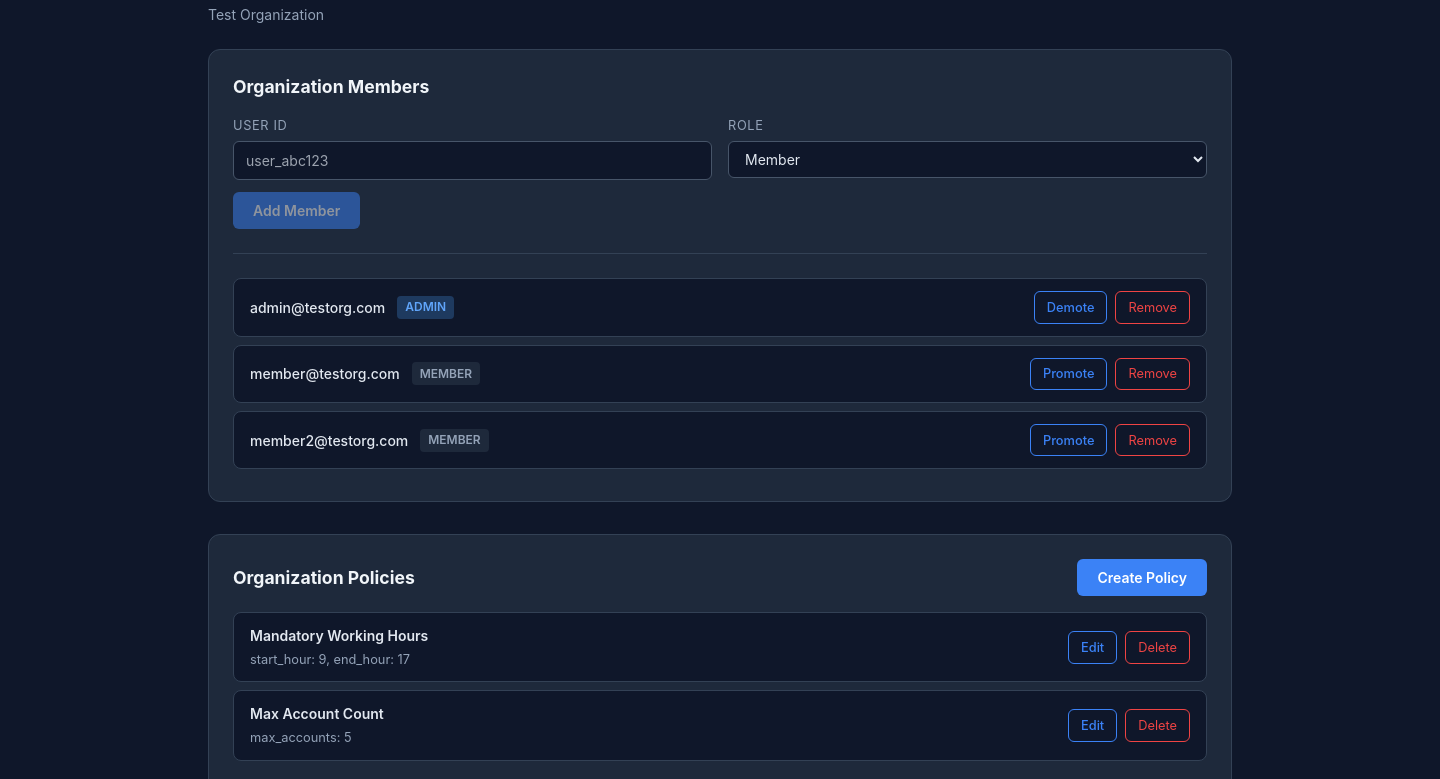
Test: AC2: Admin policy management › admin can open create policy form
The width and height of the screenshot is (1440, 779).
Click the button with test id "create-policy-btn". click: click(1142, 578)
box: [1078,559,1207,596]
(page scrolled)
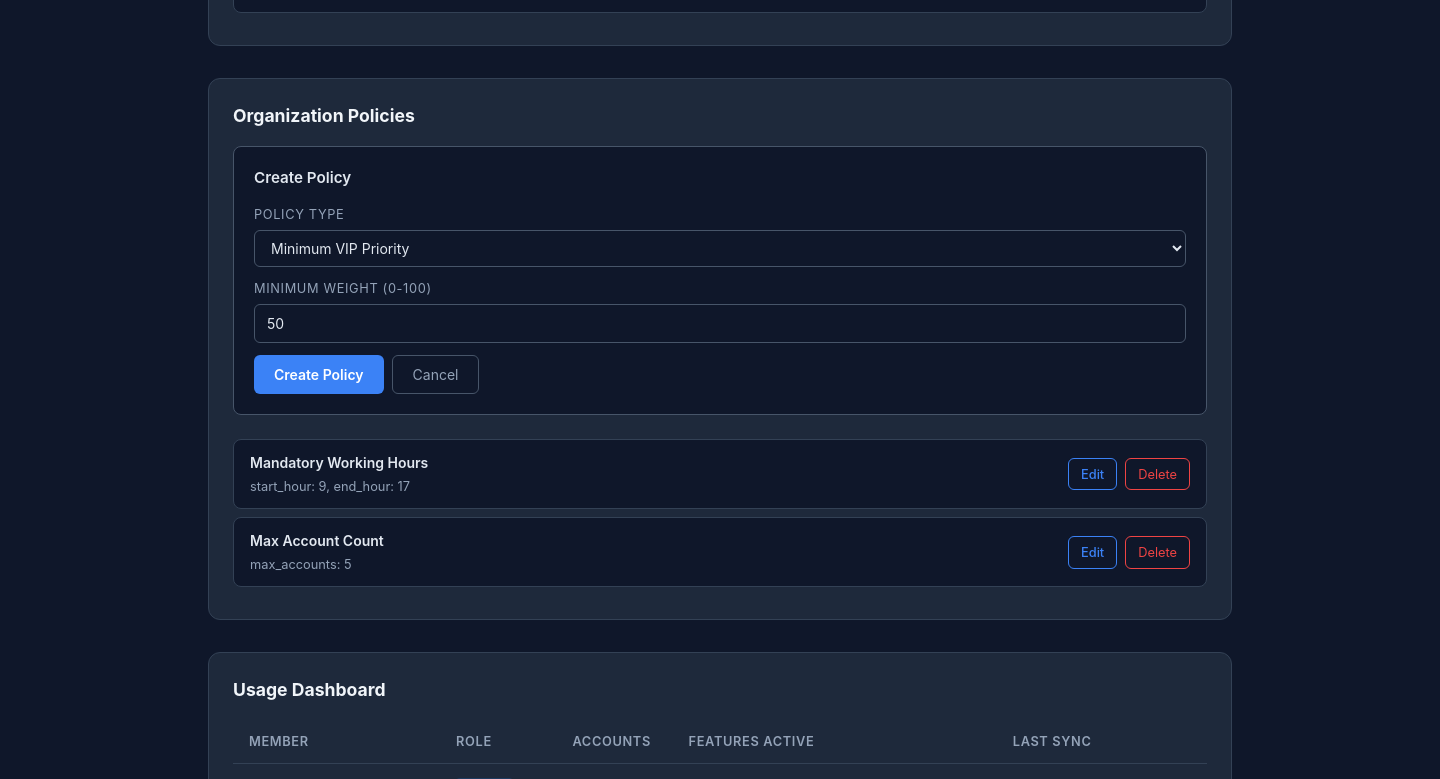
Expected: the element with test id "policy-form" is shown, [233,146,1207,415]
Expected: the dropdown with test id "policy-type-select" is shown, [254,230,1186,267]
Expected: the button with test id "policy-submit-btn" is shown, [254,355,384,394]
